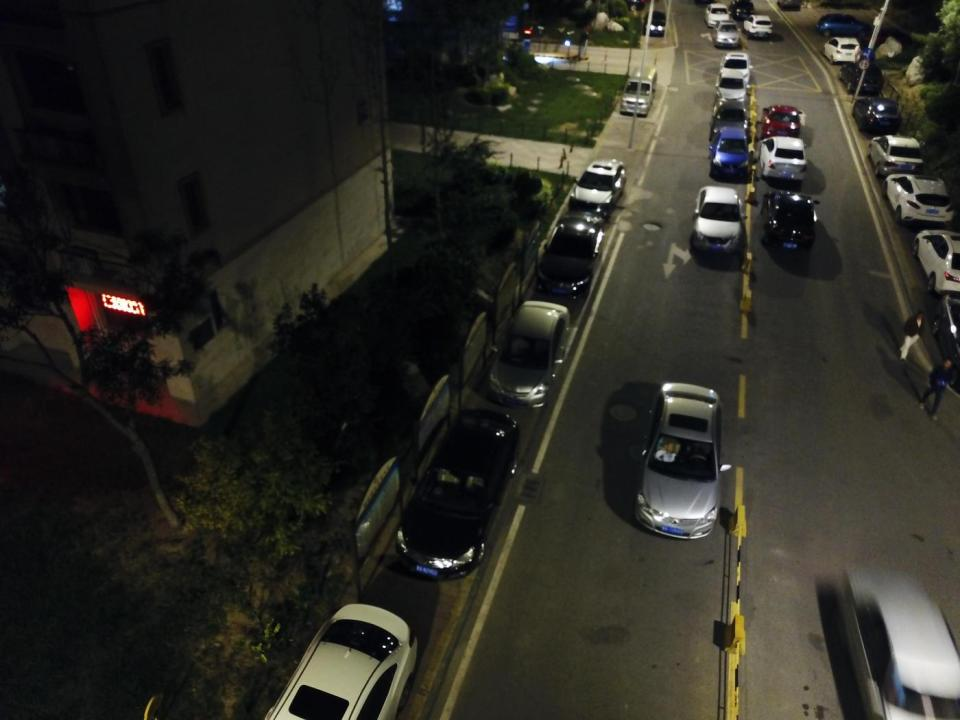car: (393, 406, 518, 579), (826, 558, 959, 720), (246, 600, 421, 720), (631, 380, 727, 542), (489, 298, 569, 406), (538, 210, 612, 293), (686, 186, 747, 258), (883, 172, 953, 228), (763, 186, 820, 253), (912, 223, 960, 293), (865, 132, 933, 180), (566, 156, 626, 205), (706, 124, 756, 178), (756, 134, 809, 182), (757, 99, 803, 143), (706, 97, 753, 138), (851, 96, 903, 132), (841, 61, 889, 93), (711, 72, 752, 106), (716, 50, 753, 86), (815, 12, 871, 35), (824, 34, 864, 63), (742, 13, 774, 40), (712, 19, 742, 45), (642, 9, 668, 38), (705, 2, 730, 29), (728, 0, 759, 19)
van: (618, 64, 658, 116)
